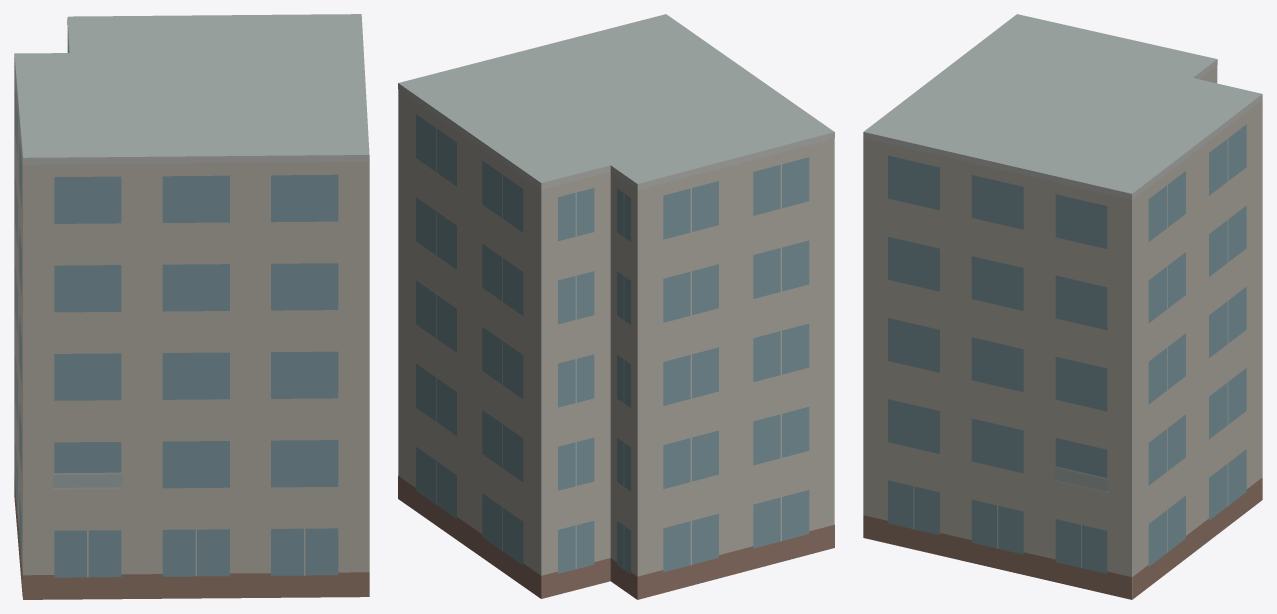
File: survey-upis-32722733.glb
3 views of the same model, side by side, from view 1: azimuth 30°, elevation 25°; view 2: azimuth 150°, elevation 25°; view 3: azimuth 270°, elevation 25° (orthographic). The views are drawn at different scales.
Visible parts, largest first — view 1: survey-upis-32722733.tmp; view 2: survey-upis-32722733.tmp; view 3: survey-upis-32722733.tmp.
Boxes of the visible parts, x1=… form: survey-upis-32722733.tmp: x1=14, y1=14, x2=369, y2=599; survey-upis-32722733.tmp: x1=398, y1=14, x2=834, y2=599; survey-upis-32722733.tmp: x1=863, y1=14, x2=1262, y2=599.
Bounding box in the file's own units: 15.16 × 15.94 × 14.21.
